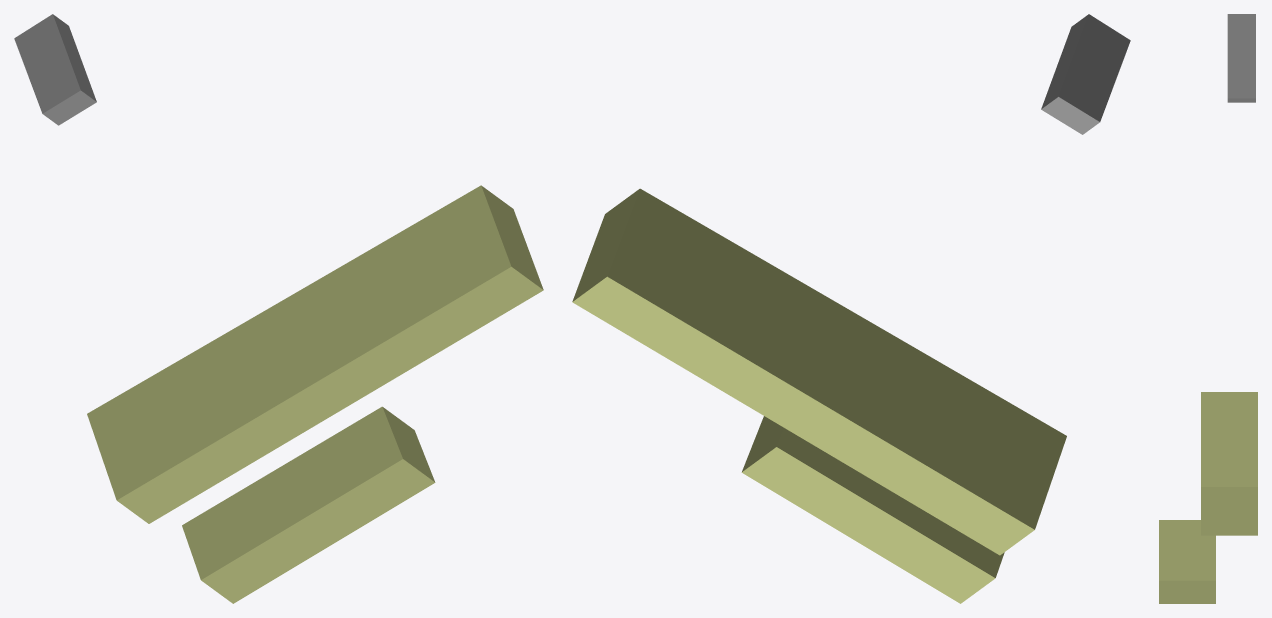
3 renders of one model, left to right at view 1: azimuth 30°, elevation 25°; view 2: azimuth 150°, elevation 25°; view 3: azimuth 270°, elevation 25°, orthographic. The views are drawn at different scales.
Visible parts, largest first — view 1: 0_1_1_3_3_1_2_3; view 2: 0_1_1_3_3_1_2_3; view 3: 0_1_1_3_3_1_2_3.
Boxes of the visible parts, x1,y1,x2,y2 form: 0_1_1_3_3_1_2_3: (14, 14, 543, 603); 0_1_1_3_3_1_2_3: (572, 14, 1130, 603); 0_1_1_3_3_1_2_3: (1159, 14, 1257, 603).
Size of the model in its own units: 53.38 by 59.37 by 10.45.
